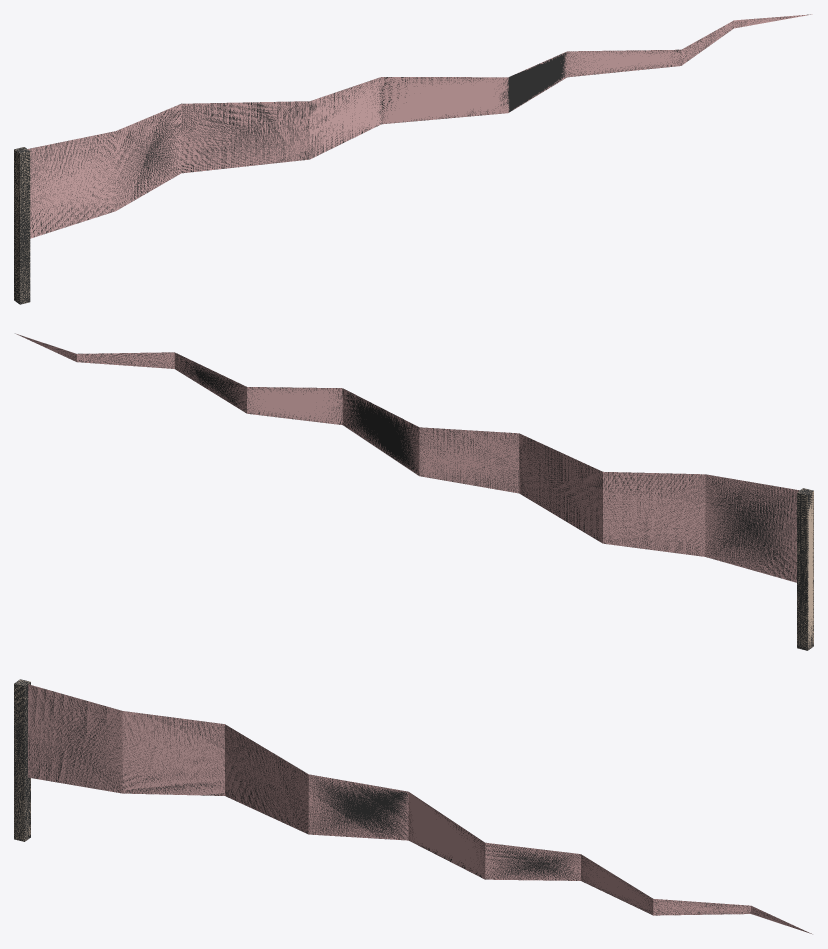
The model's file is Abstract_Modular_Flag_Beige_02.fbx.
3 views of the same model, one above another, from view 1: azimuth 30°, elevation 25°; view 2: azimuth 150°, elevation 25°; view 3: azimuth 330°, elevation 25° (orthographic). The views are drawn at different scales.
Parts seen in each view (by area): view 1: Abstract_Modular_Flag_Beige_02; view 2: Abstract_Modular_Flag_Beige_02; view 3: Abstract_Modular_Flag_Beige_02.
Part boxes in pixels (<box>): Abstract_Modular_Flag_Beige_02: <box>14,14,812,304</box>; Abstract_Modular_Flag_Beige_02: <box>15,333,813,650</box>; Abstract_Modular_Flag_Beige_02: <box>14,679,812,934</box>.
Bounding box in the file's own units: 8722 × 1603 × 814.
